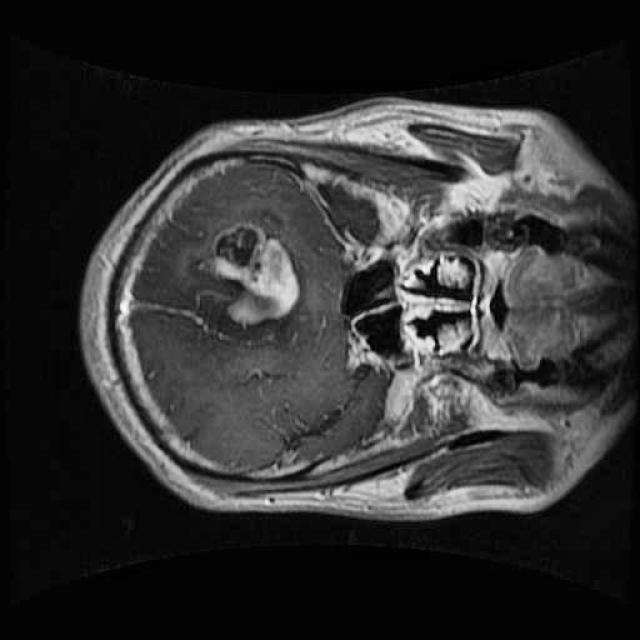Non-Tumor: (189, 212, 311, 335)
